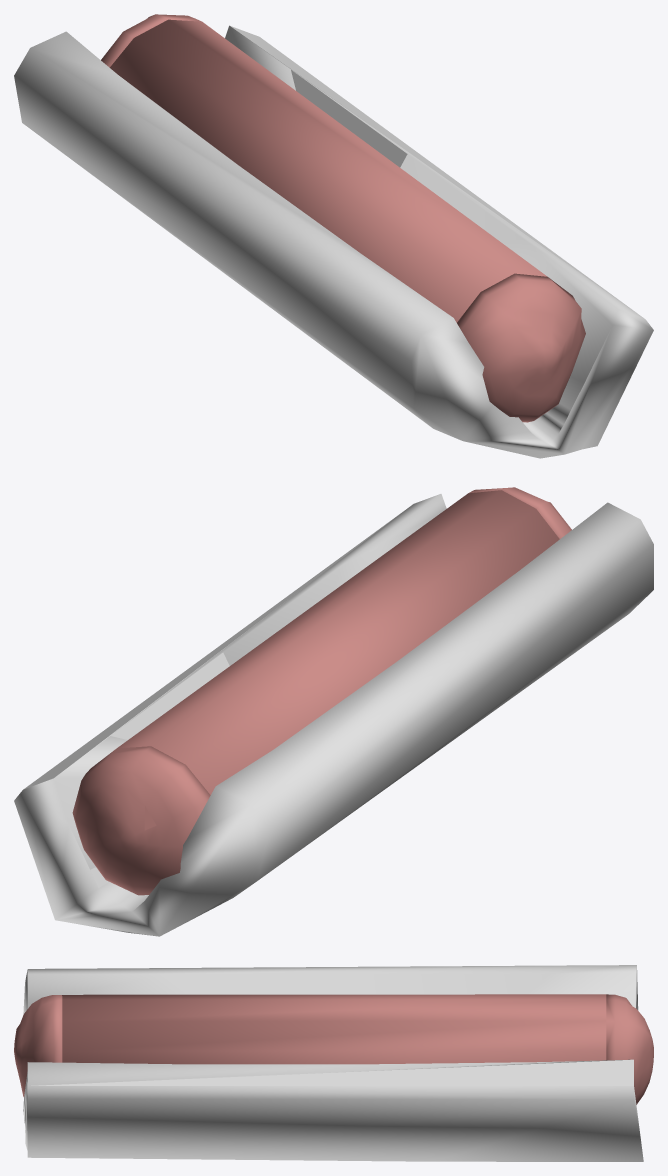
Rendered from Hotdog.fbx.
The picture shows the model from 3 angles, top to bottom: view 1: azimuth 30°, elevation 25°; view 2: azimuth 150°, elevation 25°; view 3: azimuth 270°, elevation 25°; orthographic projection. The views are drawn at different scales.
Visible parts, largest first — view 1: Hotdog_Cylinder, Hotdog_HotDog; view 2: Hotdog_Cylinder, Hotdog_HotDog; view 3: Hotdog_Cylinder, Hotdog_HotDog.
Part boxes in pixels (box(x1,y1,x2,y2)): Hotdog_Cylinder: box(14, 25, 653, 458); Hotdog_HotDog: box(101, 14, 585, 422); Hotdog_Cylinder: box(14, 494, 653, 936); Hotdog_HotDog: box(72, 487, 571, 895); Hotdog_Cylinder: box(23, 965, 643, 1161); Hotdog_HotDog: box(14, 994, 653, 1104).
Bounding box in the file's own units: 0.1508 × 0.0977 × 0.42.
